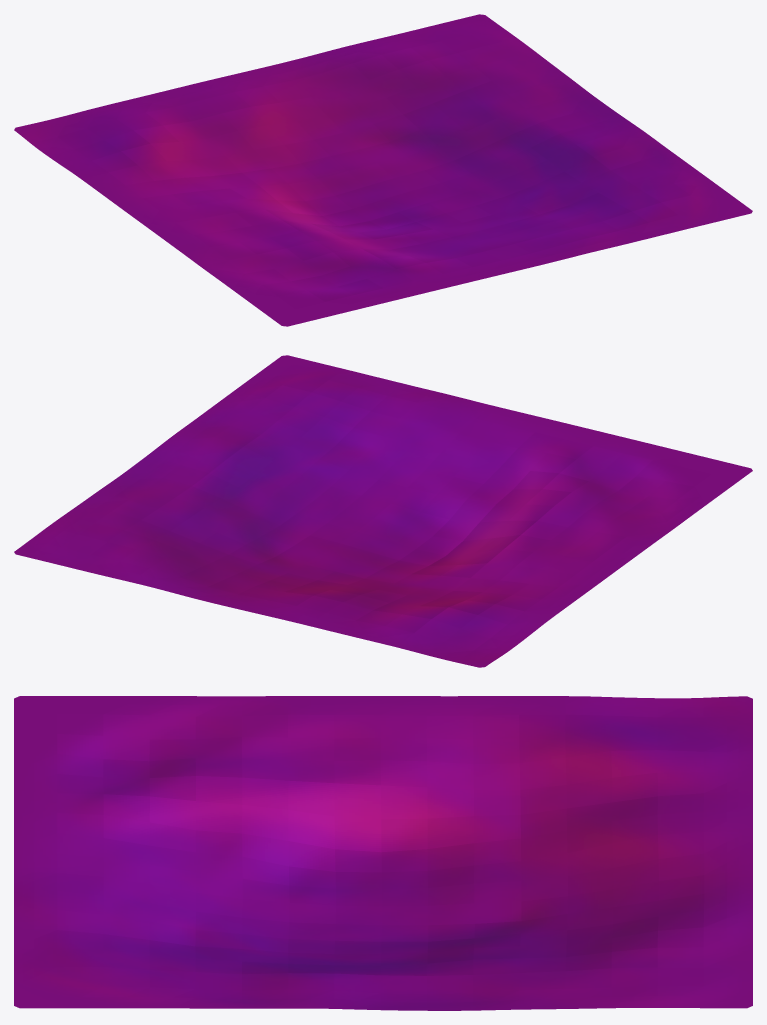
The model's file is Underwater.obj.
The picture shows the model from 3 angles, top to bottom: view 1: azimuth 30°, elevation 25°; view 2: azimuth 150°, elevation 25°; view 3: azimuth 270°, elevation 25°; orthographic projection. The views are drawn at different scales.
Visible parts, largest first — view 1: Plane_Plane.001; view 2: Plane_Plane.001; view 3: Plane_Plane.001.
Boxes of the visible parts, box(x1,y1,x2,y2) form: Plane_Plane.001: box(14, 14, 752, 326); Plane_Plane.001: box(14, 355, 752, 667); Plane_Plane.001: box(14, 696, 752, 1010).
Size of the model in its own units: 18.24 by 1.22 by 18.24.
